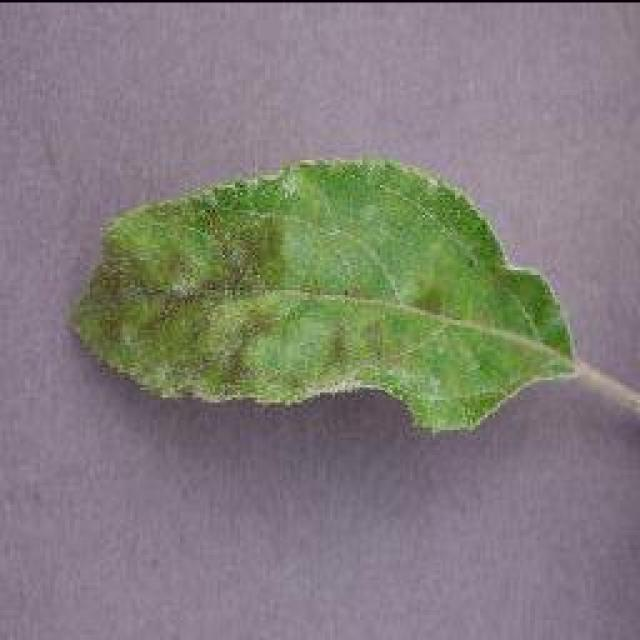Apple___Apple_scab: (59, 157, 583, 439)
